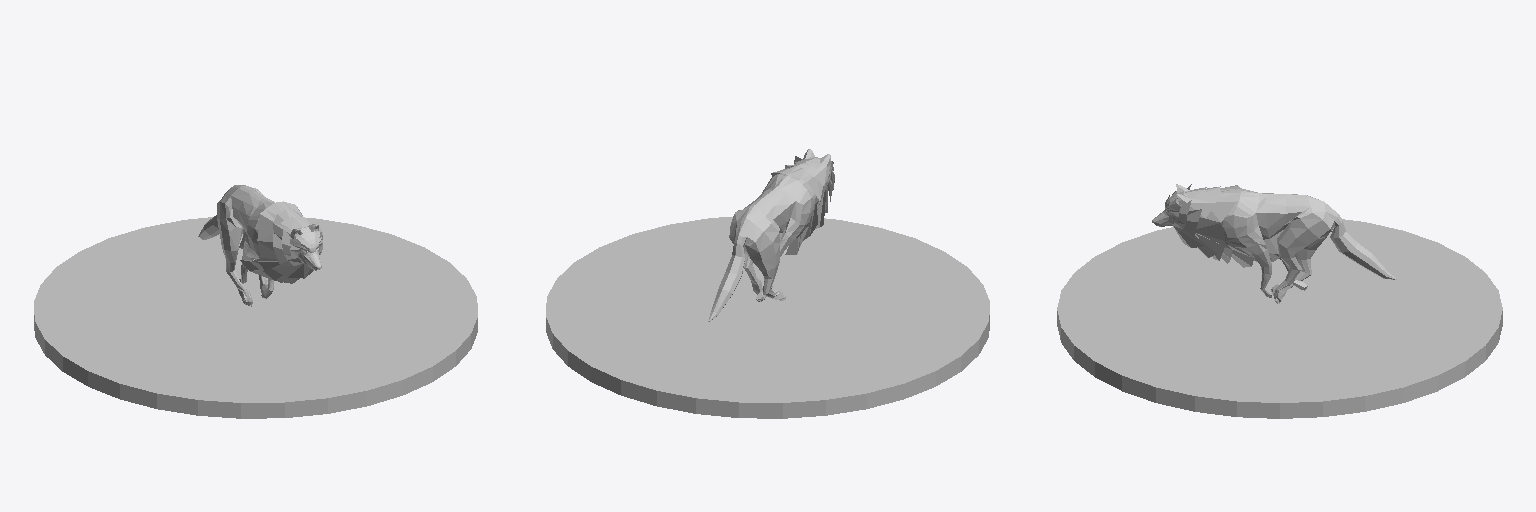
File: Wolf_0008.obj
3 views of the same model, side by side, from view 1: azimuth 30°, elevation 25°; view 2: azimuth 150°, elevation 25°; view 3: azimuth 270°, elevation 25° (orthographic).
Parts seen in each view (by area): view 1: Circle, Wolf1_Material__wolf_col_tga_0, Wolf2_fur__fella3_jpg_001_0; view 2: Circle, Wolf1_Material__wolf_col_tga_0, Wolf2_fur__fella3_jpg_001_0; view 3: Circle, Wolf1_Material__wolf_col_tga_0, Wolf2_fur__fella3_jpg_001_0.
Part boxes in pixels (x1,y1,x2,y2): Circle: (34, 217, 477, 418); Wolf1_Material__wolf_col_tga_0: (198, 185, 321, 305); Wolf2_fur__fella3_jpg_001_0: (239, 201, 322, 283); Circle: (546, 217, 989, 418); Wolf1_Material__wolf_col_tga_0: (708, 149, 830, 321); Wolf2_fur__fella3_jpg_001_0: (771, 156, 834, 254); Circle: (1057, 219, 1502, 418); Wolf1_Material__wolf_col_tga_0: (1152, 184, 1396, 302); Wolf2_fur__fella3_jpg_001_0: (1165, 184, 1283, 267).
Bounding box in the file's own units: 1.69 × 0.5753 × 1.69.